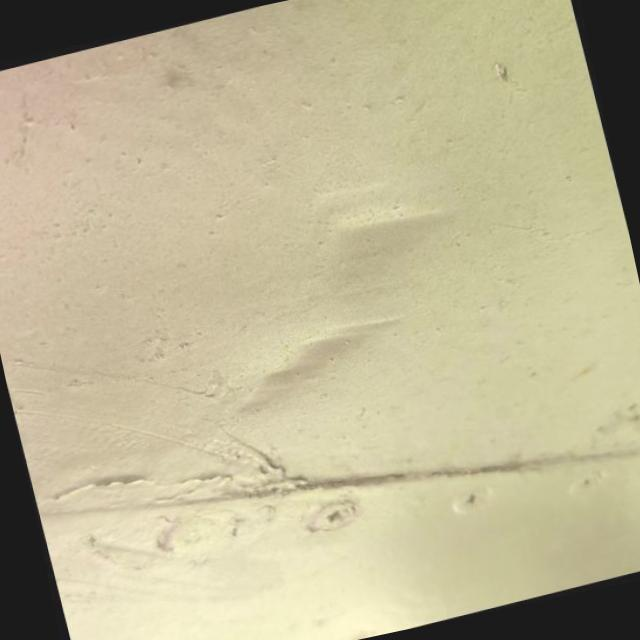dent: (200, 300, 428, 454)
